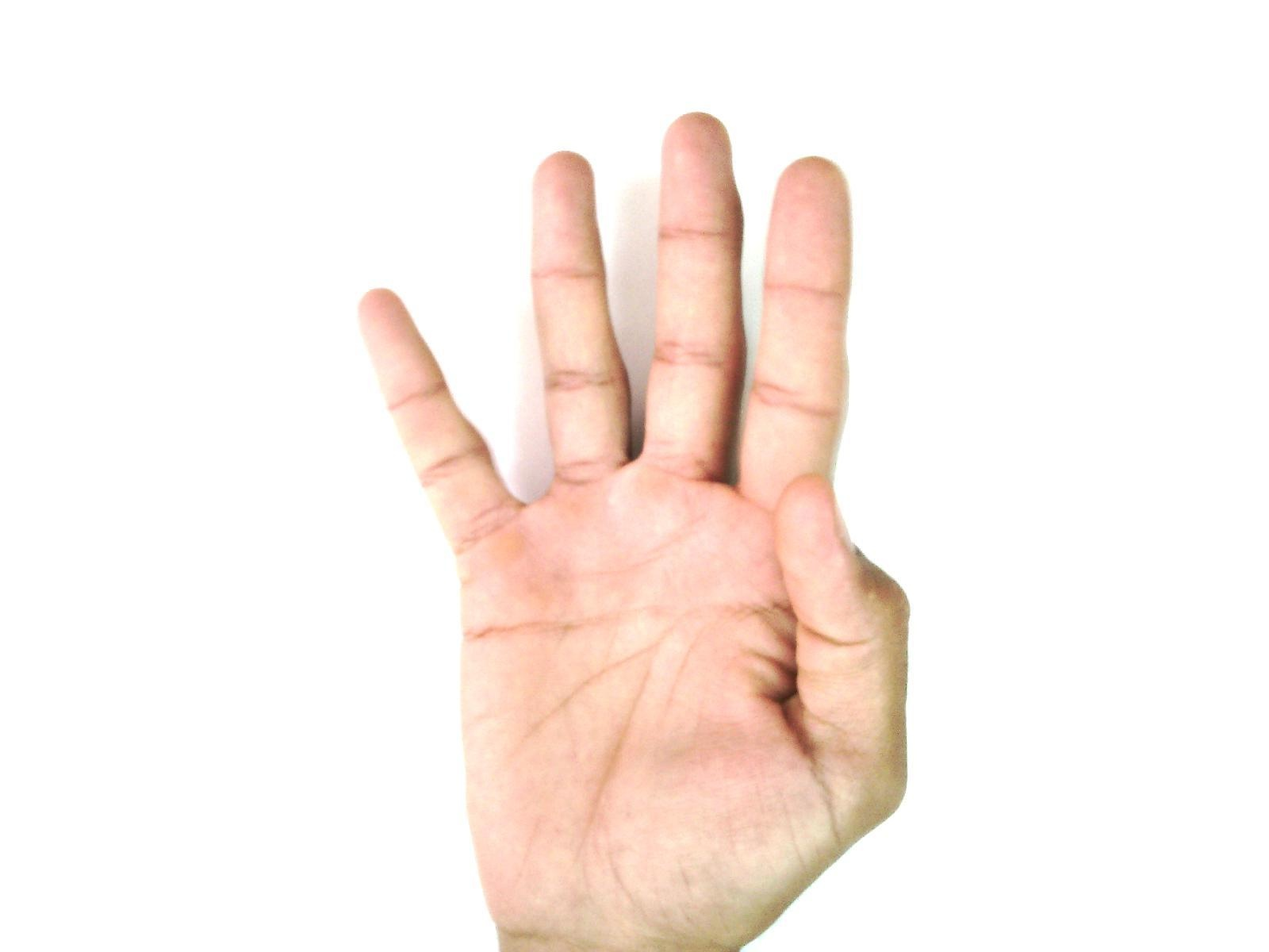open_palm: (355, 111, 914, 950)
